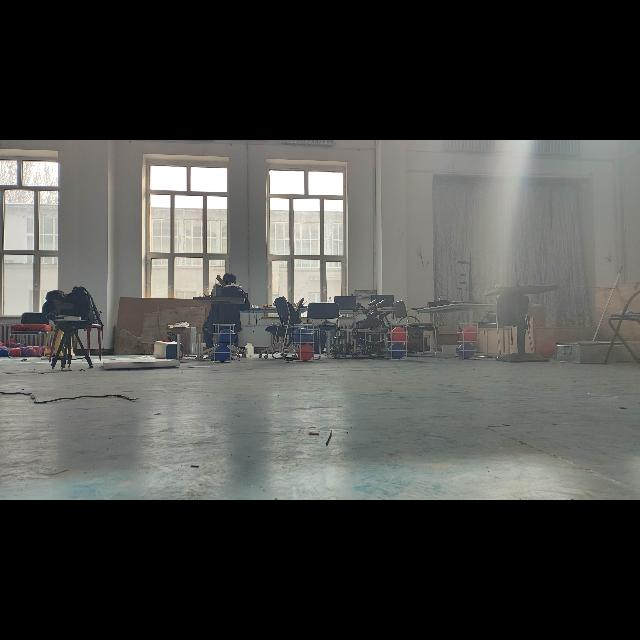B: (217, 328, 236, 346), (387, 344, 407, 360), (212, 345, 232, 361), (457, 342, 475, 358), (294, 328, 310, 344)
R: (388, 328, 408, 344), (298, 344, 314, 362), (462, 328, 478, 342)
S: (453, 320, 483, 362), (208, 322, 238, 364), (291, 321, 319, 365), (385, 322, 411, 362)
